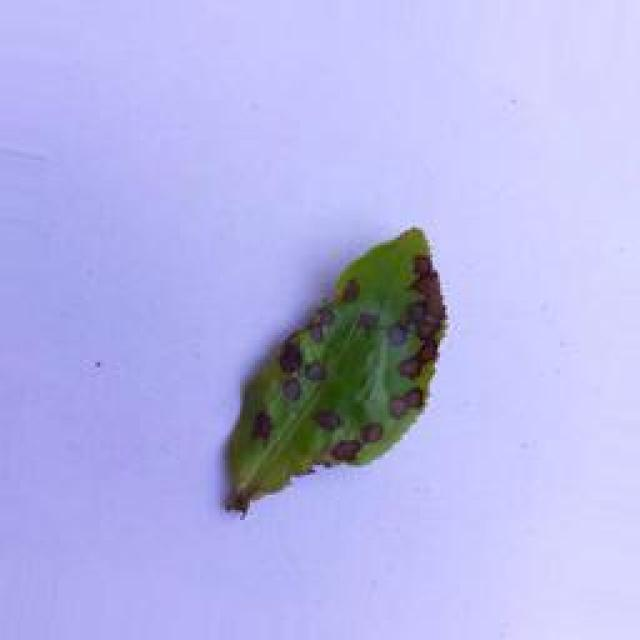Helopeltis: (214, 224, 472, 515)
